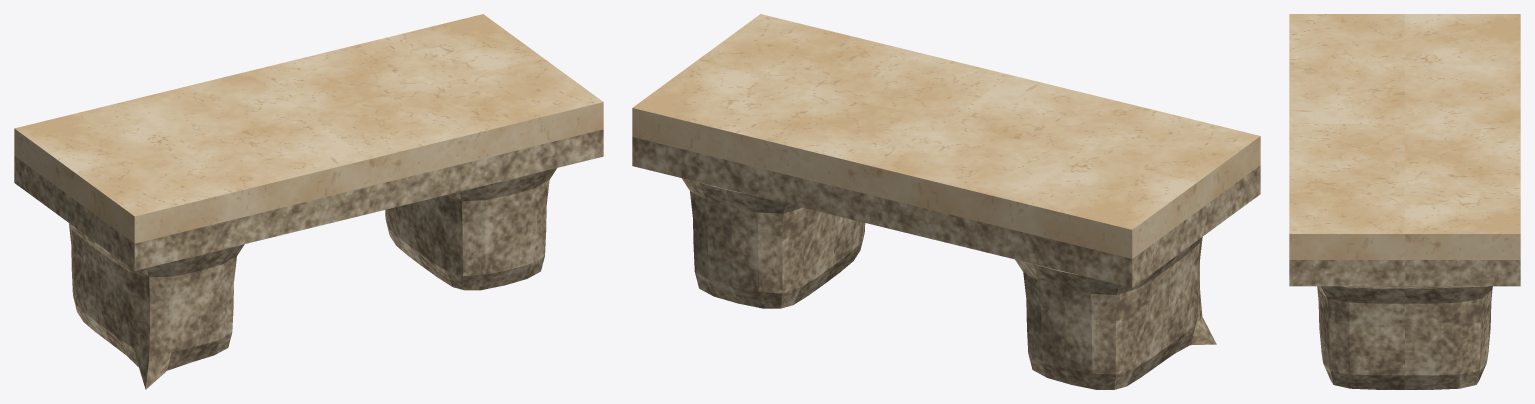
File: stone_bench.glb
The picture shows the model from 3 angles, left to right: view 1: azimuth 30°, elevation 25°; view 2: azimuth 150°, elevation 25°; view 3: azimuth 270°, elevation 25°; orthographic projection. The views are drawn at different scales.
Visible parts, largest first — view 1: crypt_stone_bench; view 2: crypt_stone_bench; view 3: crypt_stone_bench.
Part boxes in pixels (x1,y1,x2,y2): crypt_stone_bench: (14, 14, 603, 389); crypt_stone_bench: (632, 14, 1260, 389); crypt_stone_bench: (1289, 14, 1520, 389).
Bounding box in the file's own units: 1.12 × 0.4375 × 0.5.
Materials: 1 (1 with a texture image).
